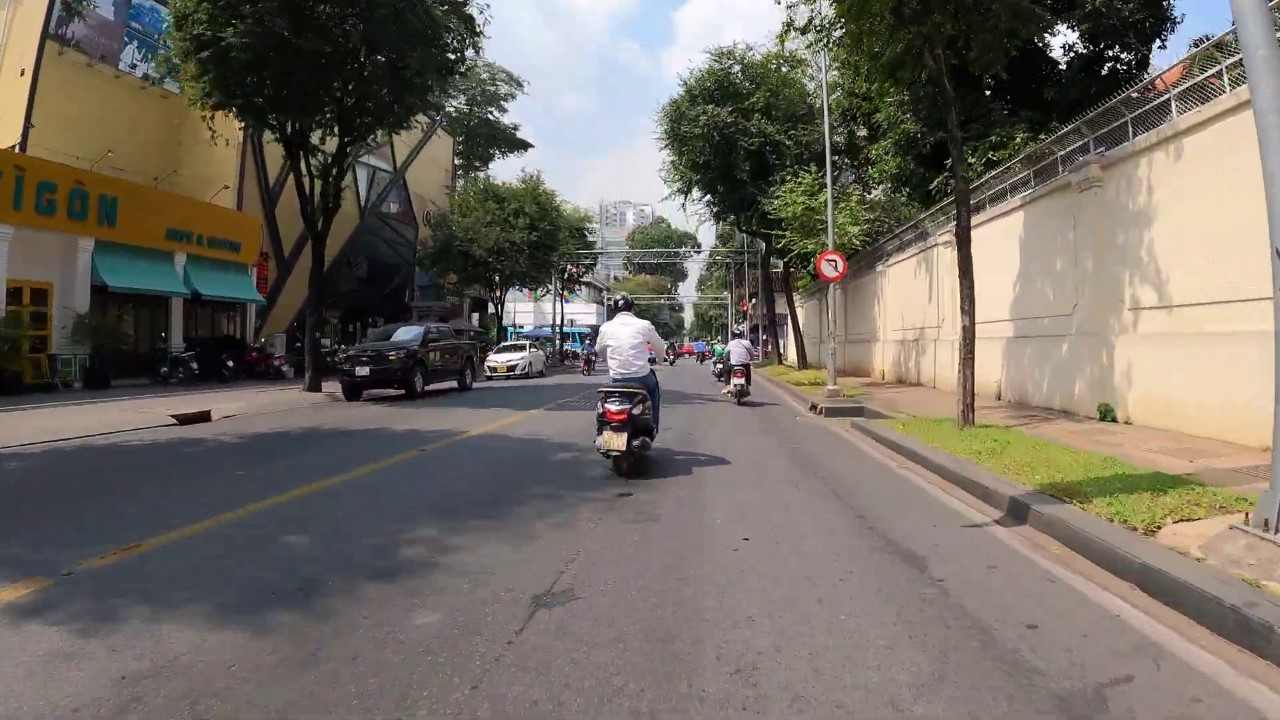cam_re_trai: (815, 250, 848, 282)
